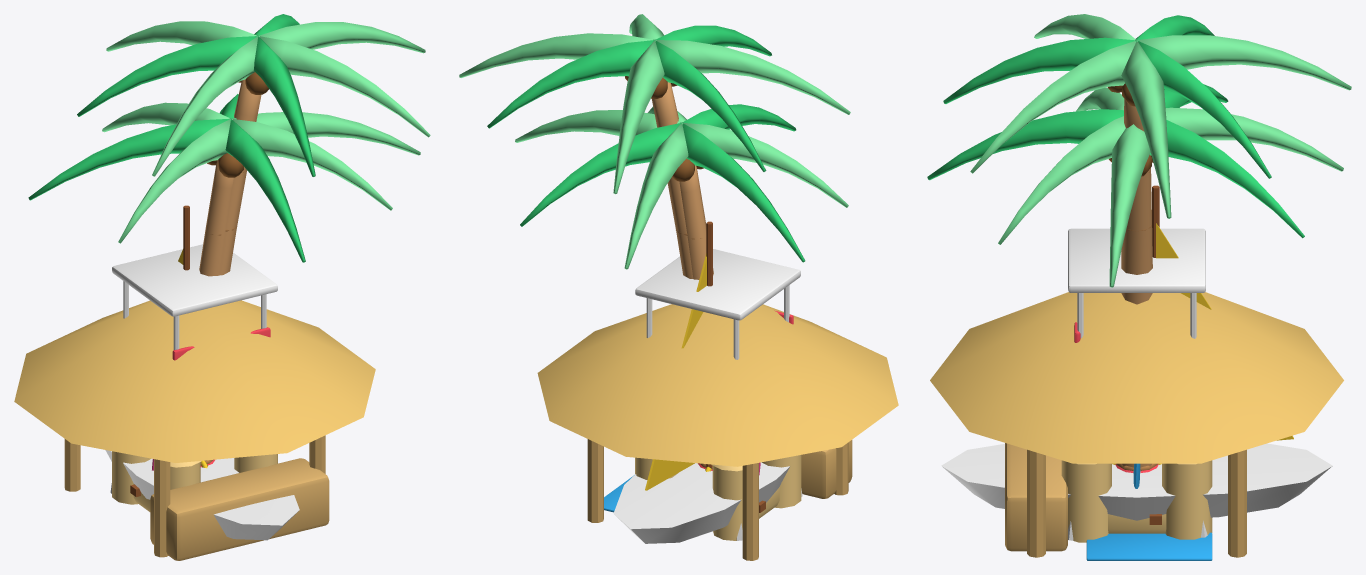
Rendered from tropical.glb.
3 views of the same model, side by side, from view 1: azimuth 30°, elevation 25°; view 2: azimuth 150°, elevation 25°; view 3: azimuth 270°, elevation 25° (orthographic). The views are drawn at different scales.
Parts seen in each view (by area): view 1: tiki_hut, palm_b, palm_a, lifeguard_tower, sailboat, sandcastle; view 2: tiki_hut, palm_b, palm_a, sailboat, lifeguard_tower, sandcastle; view 3: tiki_hut, palm_b, palm_a, sailboat, sandcastle, lifeguard_tower, beach_umbrella.
Boxes of the visible parts, box(x1,y1,x2,y2) form: tiki_hut: box(14, 300, 375, 560); palm_b: box(77, 14, 430, 461); palm_a: box(28, 94, 420, 465); lifeguard_tower: box(110, 244, 277, 493); sailboat: box(105, 205, 299, 540); sandcastle: box(112, 451, 277, 511); tiki_hut: box(537, 304, 898, 560); palm_b: box(459, 14, 850, 278); palm_a: box(515, 104, 848, 469); sailboat: box(613, 221, 789, 543); lifeguard_tower: box(635, 249, 802, 540); sandcastle: box(635, 455, 801, 540); tiki_hut: box(930, 292, 1343, 557); palm_b: box(943, 14, 1351, 467); palm_a: box(927, 84, 1343, 470); sailboat: box(941, 185, 1332, 520); sandcastle: box(1061, 460, 1212, 542); lifeguard_tower: box(1068, 228, 1207, 540); beach_umbrella: box(1086, 532, 1212, 560).
Size of the model in its own units: 8.18 by 8.96 by 6.76.
